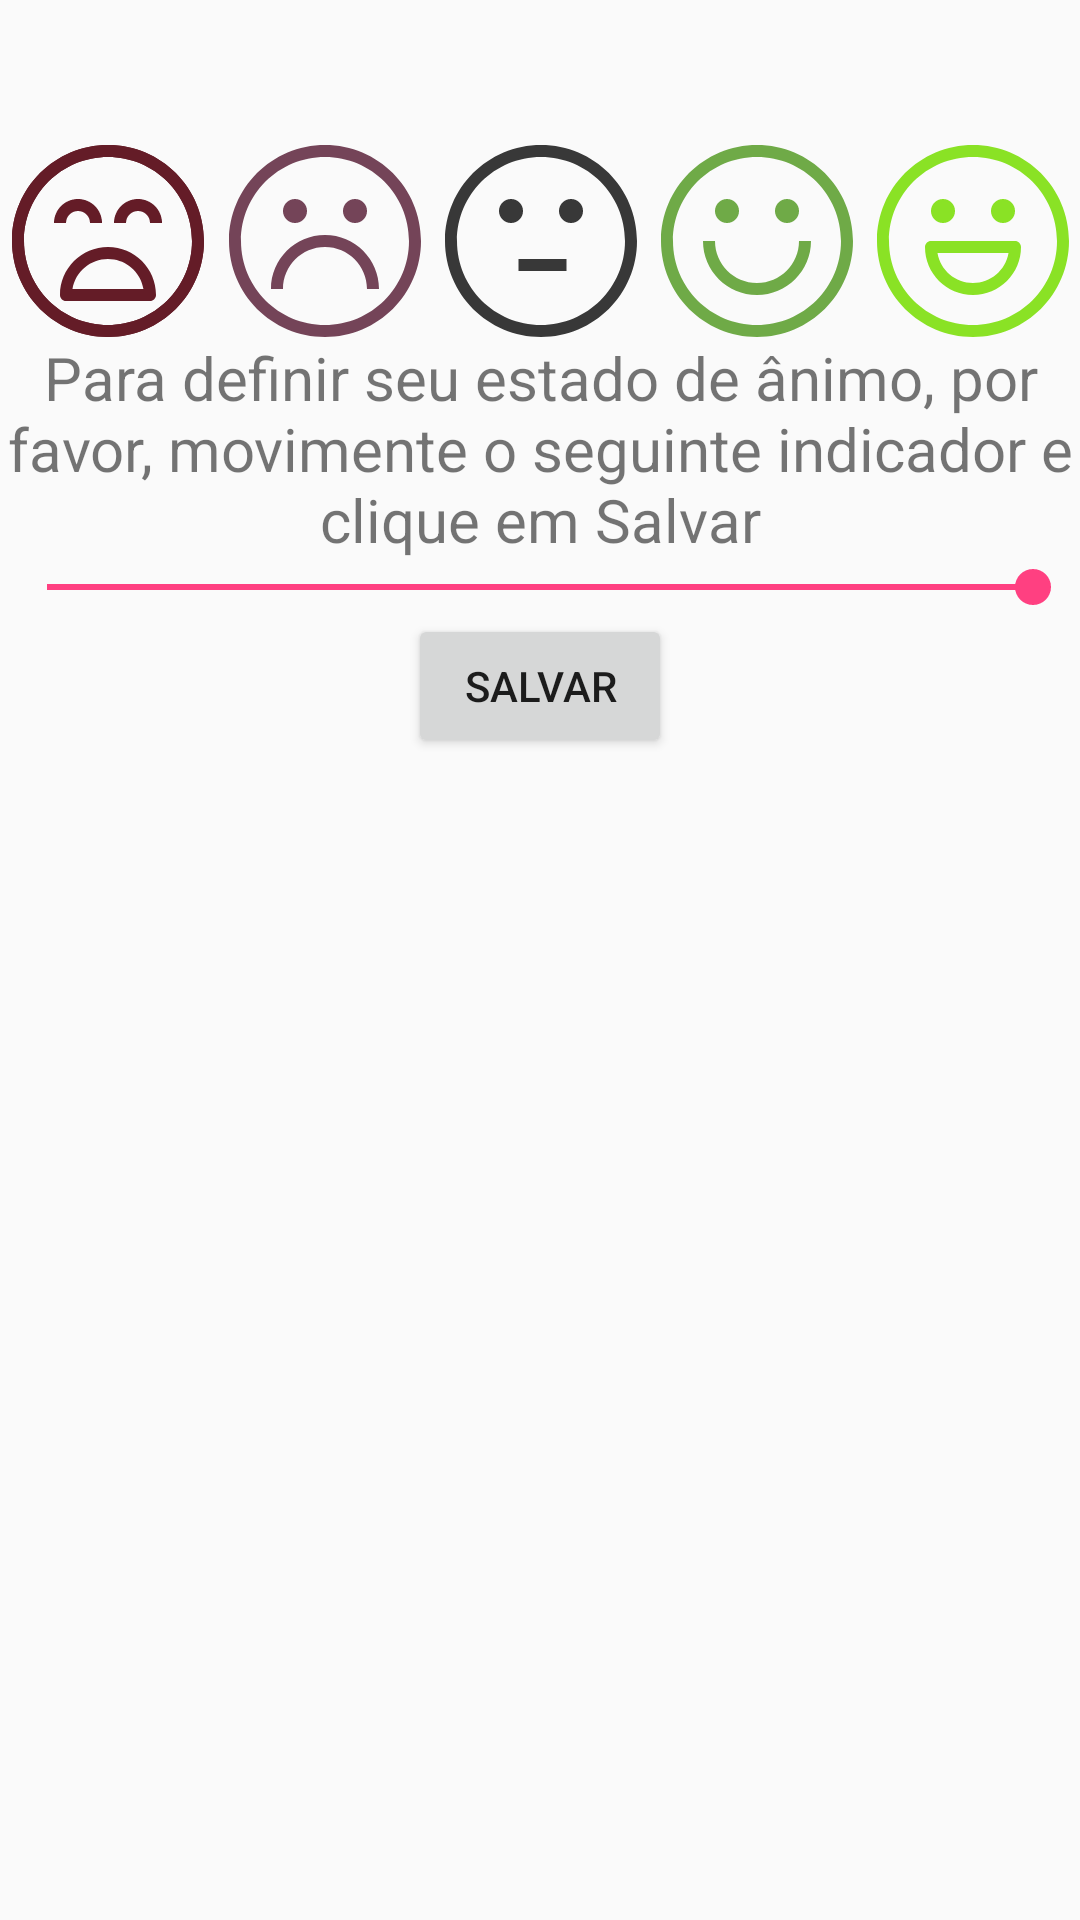

Icons on this 1080px x 1920px Android screen, each with its box as (x1, y1, x2, y2):
mood: (12, 145, 204, 337), (229, 145, 421, 337), (445, 145, 637, 337), (661, 145, 853, 337), (877, 145, 1069, 337)
